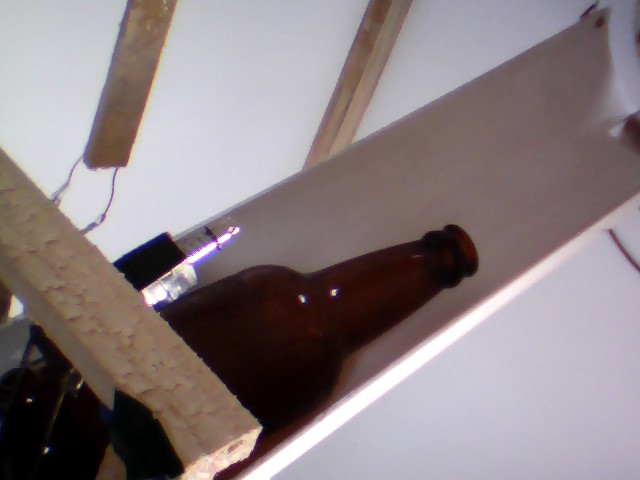vidrio: (197, 218, 495, 443)
